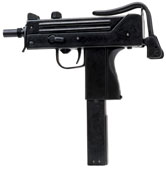rifle: (3, 7, 164, 168)
